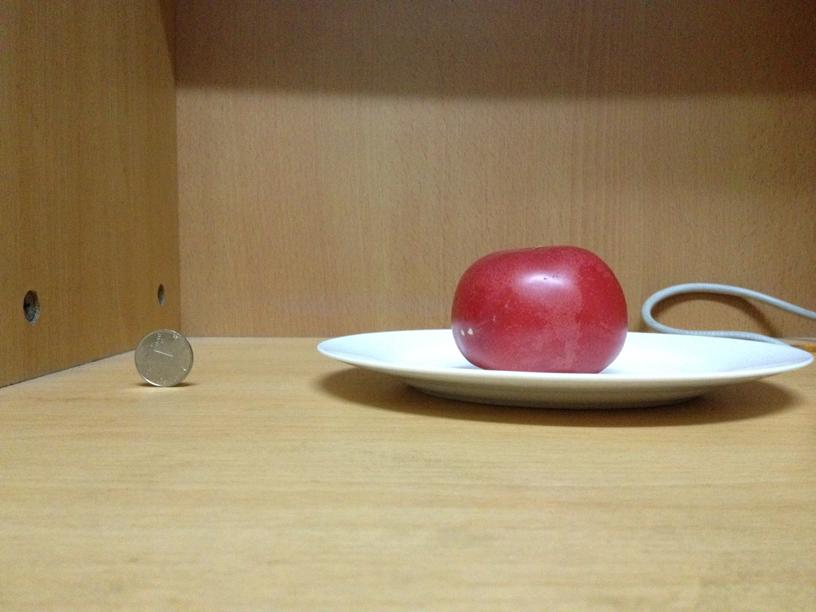coin: (133, 327, 195, 386)
tomato: (450, 242, 630, 376)
